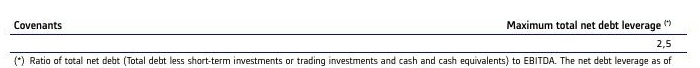table: (0, 0, 700, 68)
